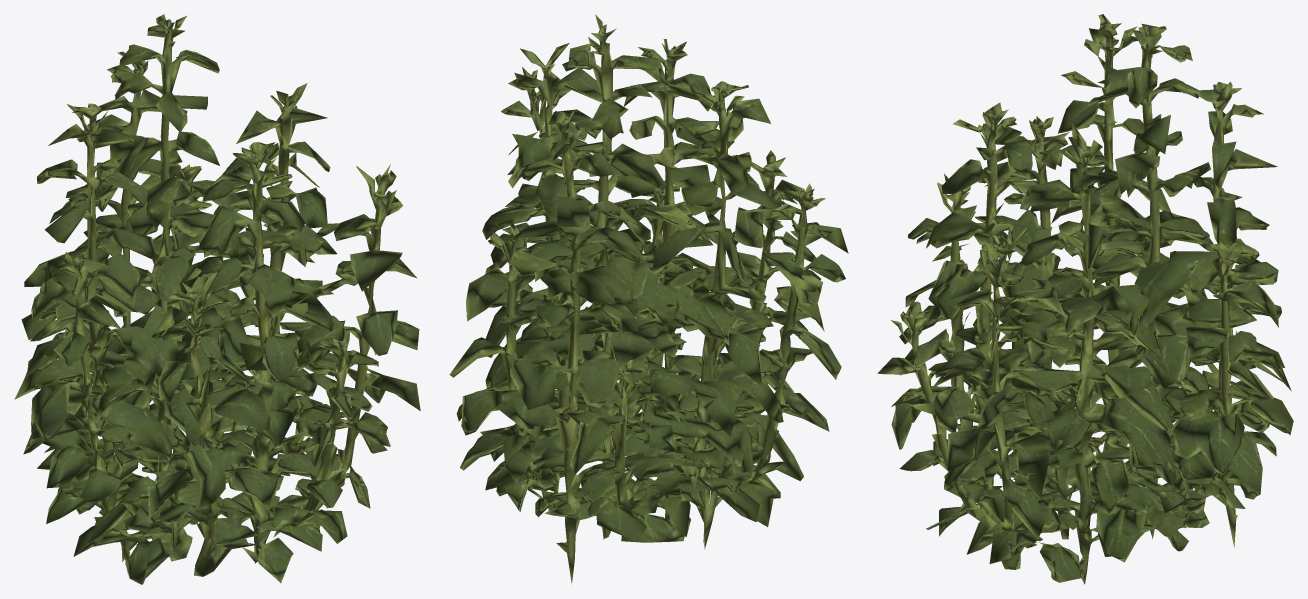
The model's file is ortigas.glb.
3 views of the same model, side by side, from view 1: azimuth 30°, elevation 25°; view 2: azimuth 150°, elevation 25°; view 3: azimuth 270°, elevation 25° (orthographic). The views are drawn at different scales.
Visible parts, largest first — view 1: aligerado; view 2: aligerado; view 3: aligerado.
Boxes of the visible parts, bbox=[...] form: aligerado: bbox=[14, 14, 420, 584]; aligerado: bbox=[449, 14, 848, 584]; aligerado: bbox=[877, 14, 1293, 584].
Size of the model in its own units: 0.5813 by 0.8 by 0.5625.
Materials: 1 (1 with a texture image).
